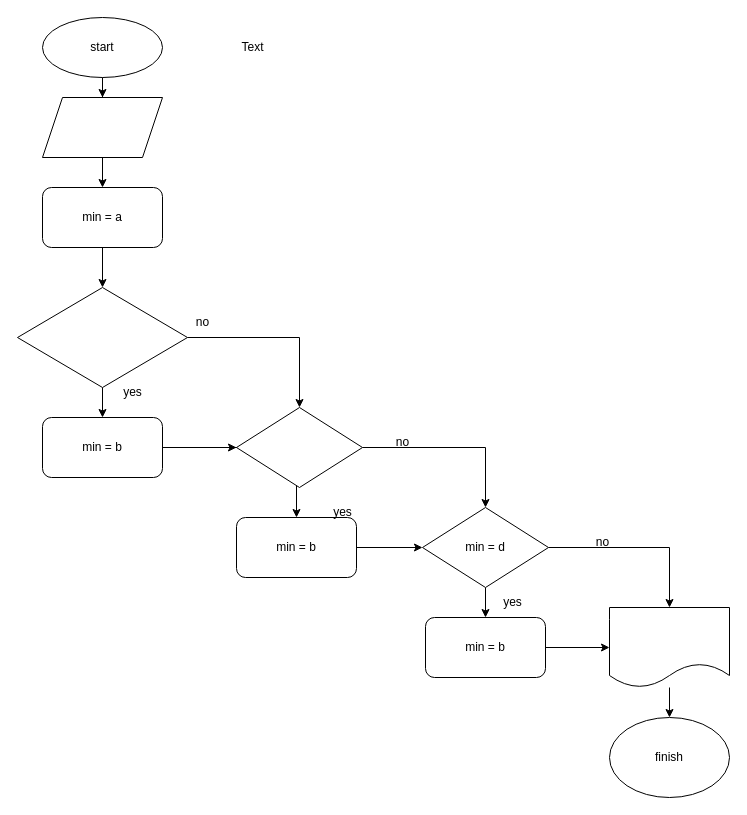
The diagram is 747 pixels wide and 815 high, and some of its shapes have lost their labels. The shapes that lost their labels are listed below. From the top down, each one's box as (x1, y1, x2, y2) in pixels, then its label:
(42, 96, 162, 158): a.b.c,d
(16, 286, 188, 388): min > b
(236, 406, 362, 488): min = c
(608, 606, 730, 688): min
